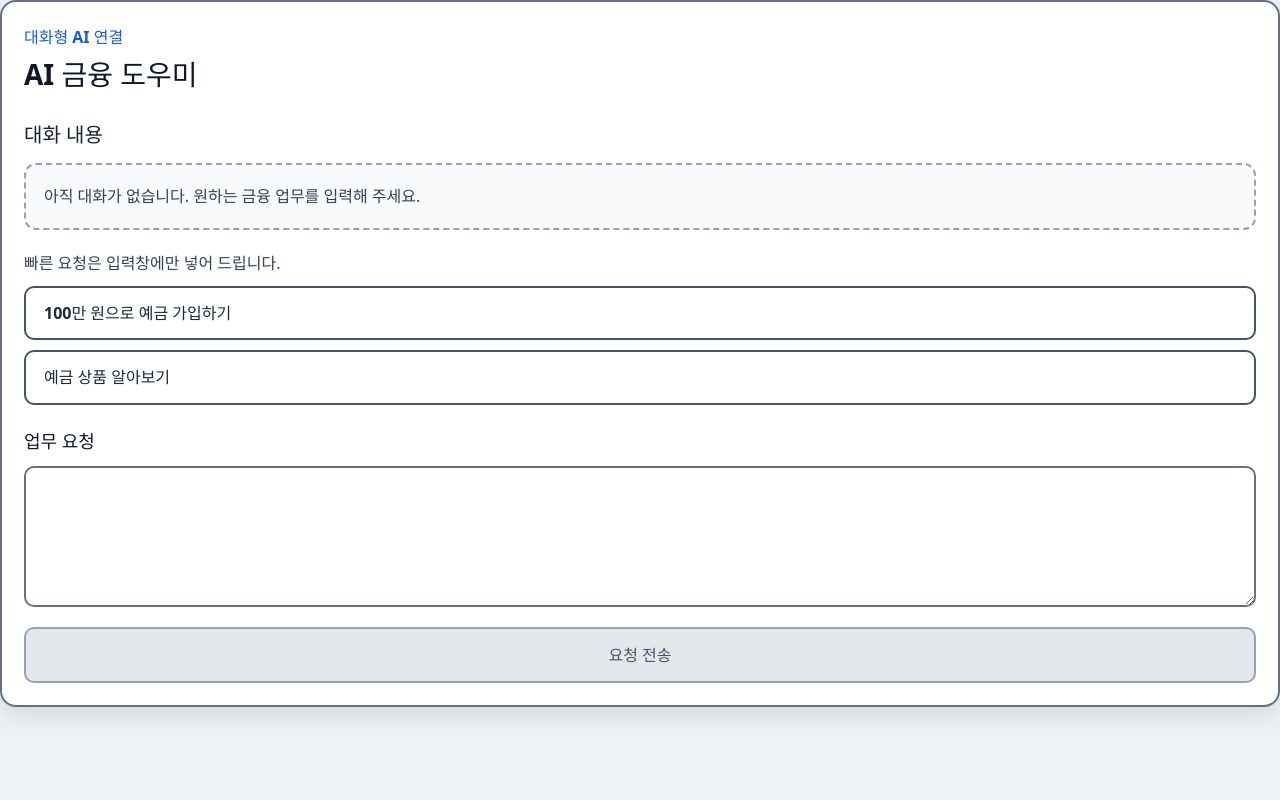
AgentChatPanel › 빠른 요청은 draft만 바꾸고 자동 전송하지 않는다
The width and height of the screenshot is (1280, 800).
Click the button "100만 원으로 예금 가입하기" at [138, 313], box [24,286,1256,340]
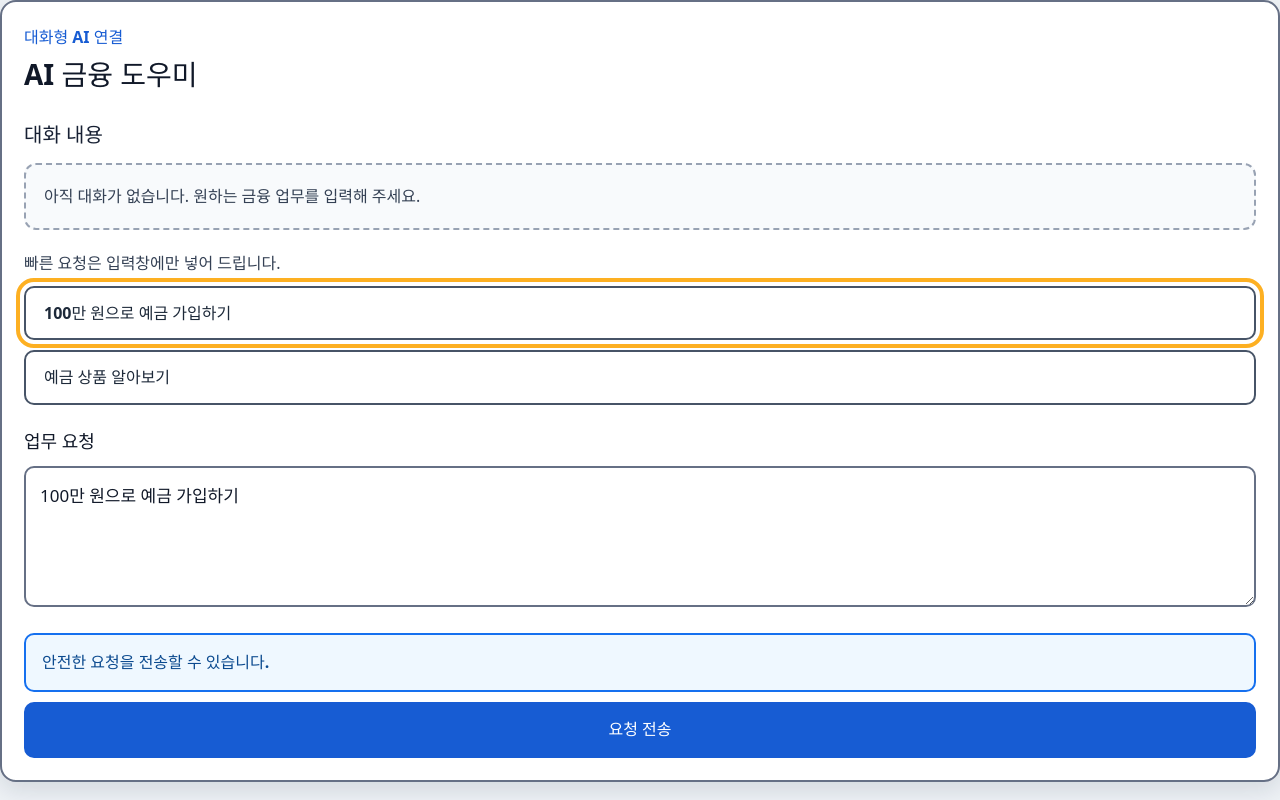
Expected: the text box labelled "업무 요청" holds "100만 원으로 예금 가입하기", [24,466,1256,607]
